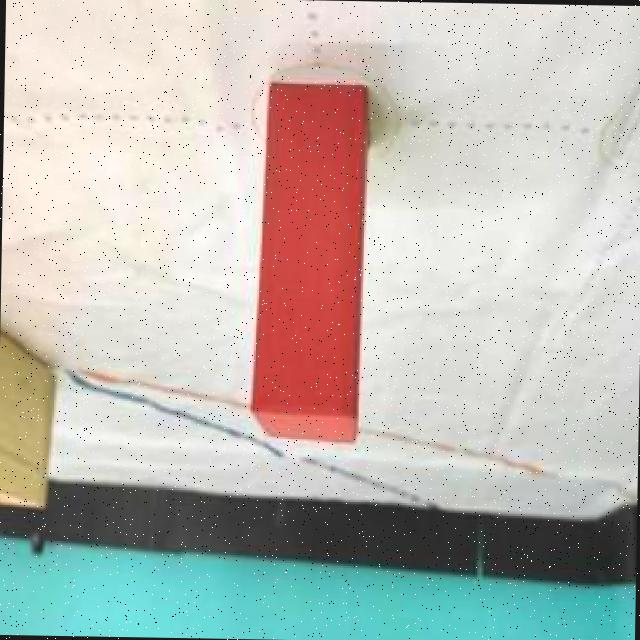redbox: (248, 82, 369, 446)
